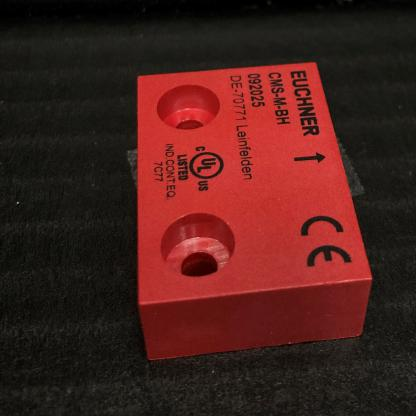SP0000001: (2, 8, 416, 416)
